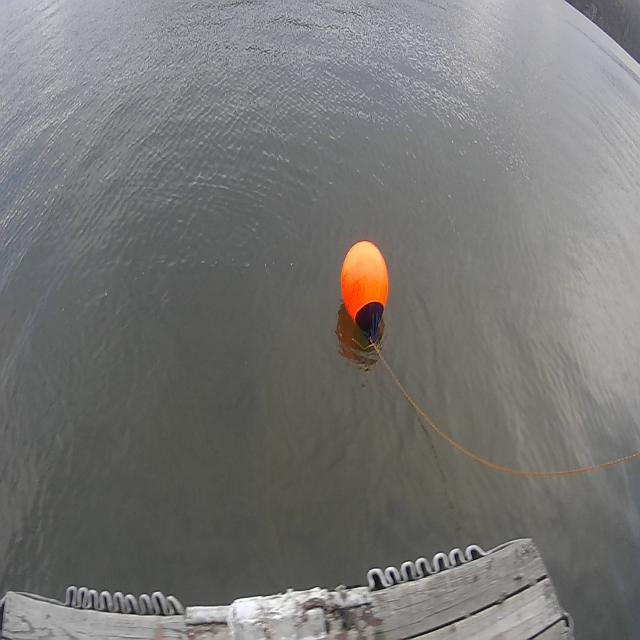Buoy: (341, 238, 391, 325)
